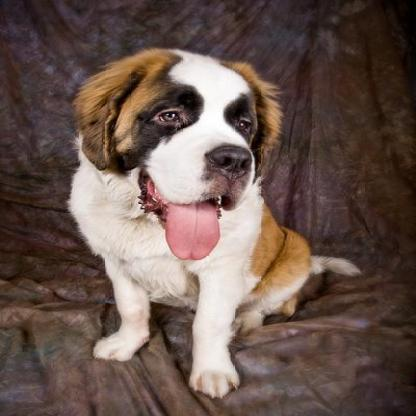Saint_Bernard: (57, 44, 360, 394)
